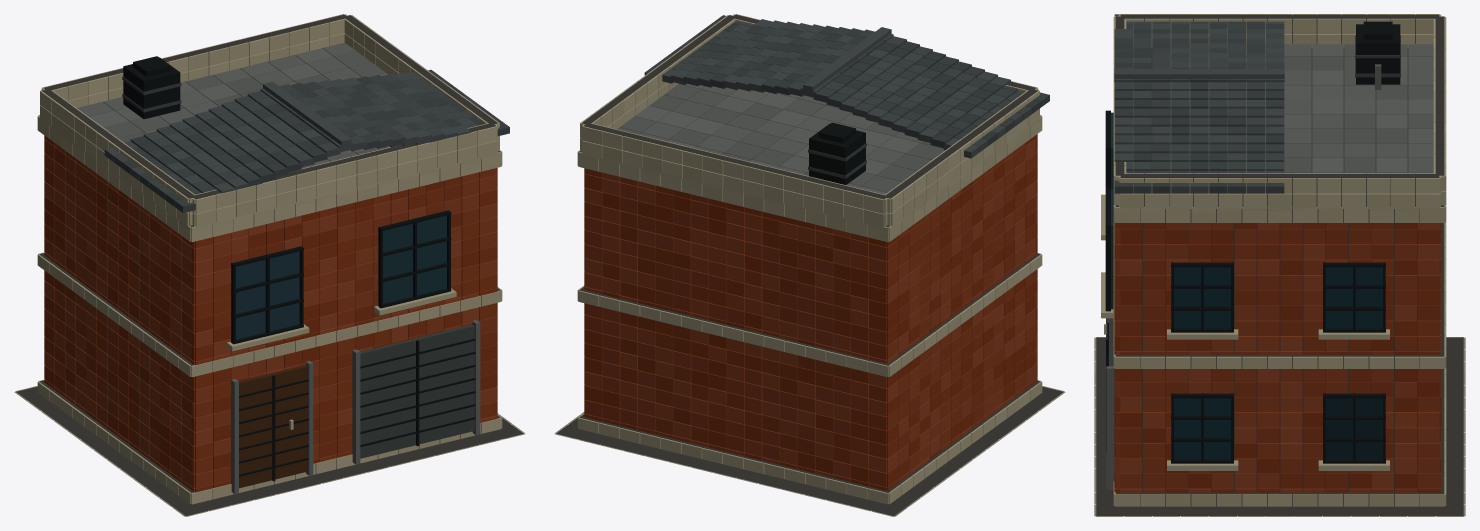
Rendered from SM_Mapa_048.fbx.
3 views of the same model, side by side, from view 1: azimuth 30°, elevation 25°; view 2: azimuth 150°, elevation 25°; view 3: azimuth 270°, elevation 25° (orthographic). The views are drawn at different scales.
Visible parts, largest first — view 1: SM_Mapa_048; view 2: SM_Mapa_048; view 3: SM_Mapa_048.
Part boxes in pixels (box(x1,y1,x2,y2)): SM_Mapa_048: box(14, 14, 525, 516); SM_Mapa_048: box(554, 14, 1065, 516); SM_Mapa_048: box(1094, 14, 1465, 516).
Bounding box in the file's own units: 8 × 6.97 × 7.47.
